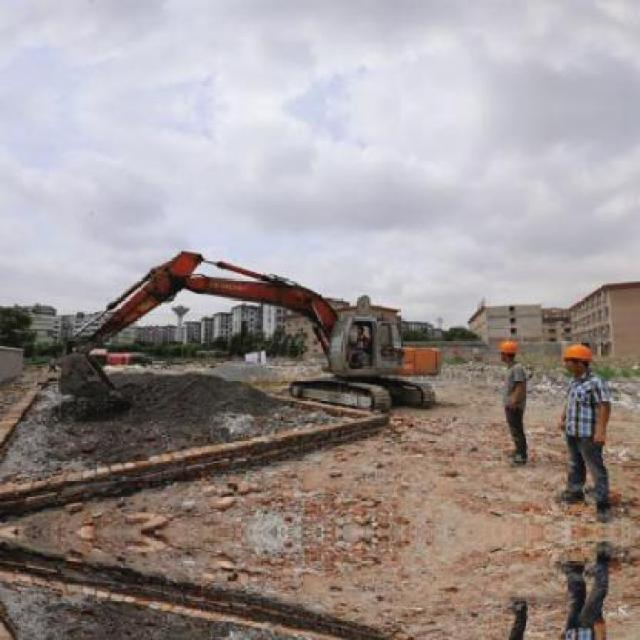helmet: (562, 338, 592, 372), (497, 337, 515, 361)
